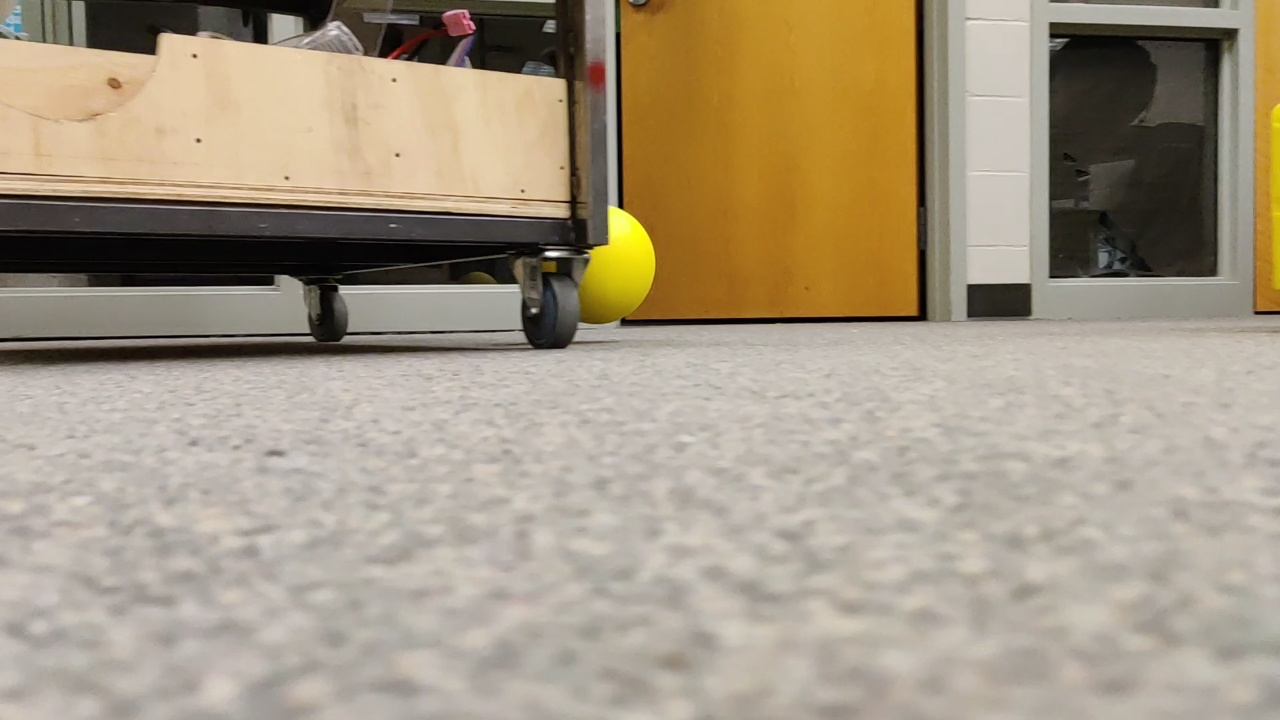Ball: (582, 197, 656, 328)
